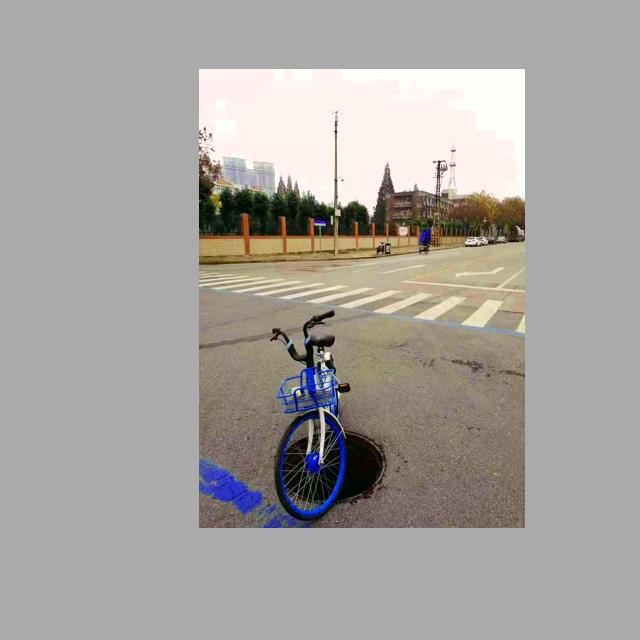lose: (278, 428, 385, 507)
